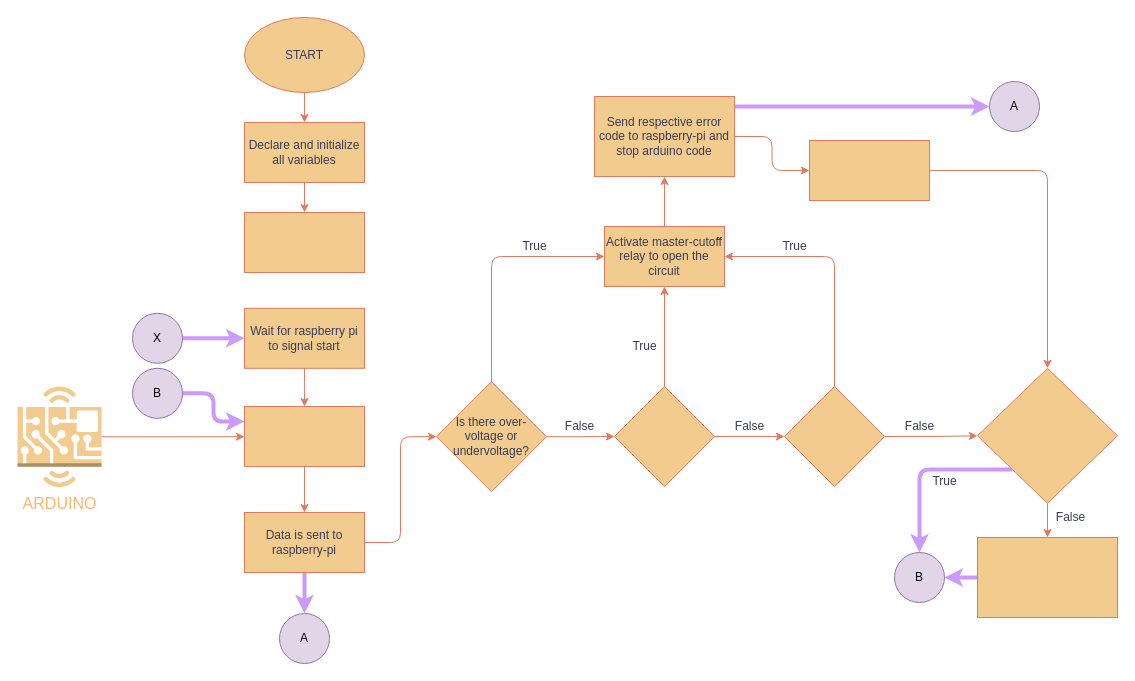
The diagram is 1135 pixels wide and 681 high, and some of its shapes have lost their labels. The shapes that lost their labels are listed below. From the top down, each one's centre as x and y in pixels, then its label:
At point 869,170: "Delay 2000ms".
At point 304,242: "Initial conditions of pins are set".
At point 304,436: "Sense the voltage, current and temperature and store it".
At point 664,436: "Is the temperature out of range?".
At point 834,436: "Is over-current present?".
At point 1047,435: "Are the series cell voltages balanced?".
At point 1047,577: "Intelligent control algorithm for cell balancing is triggered including PWM".
